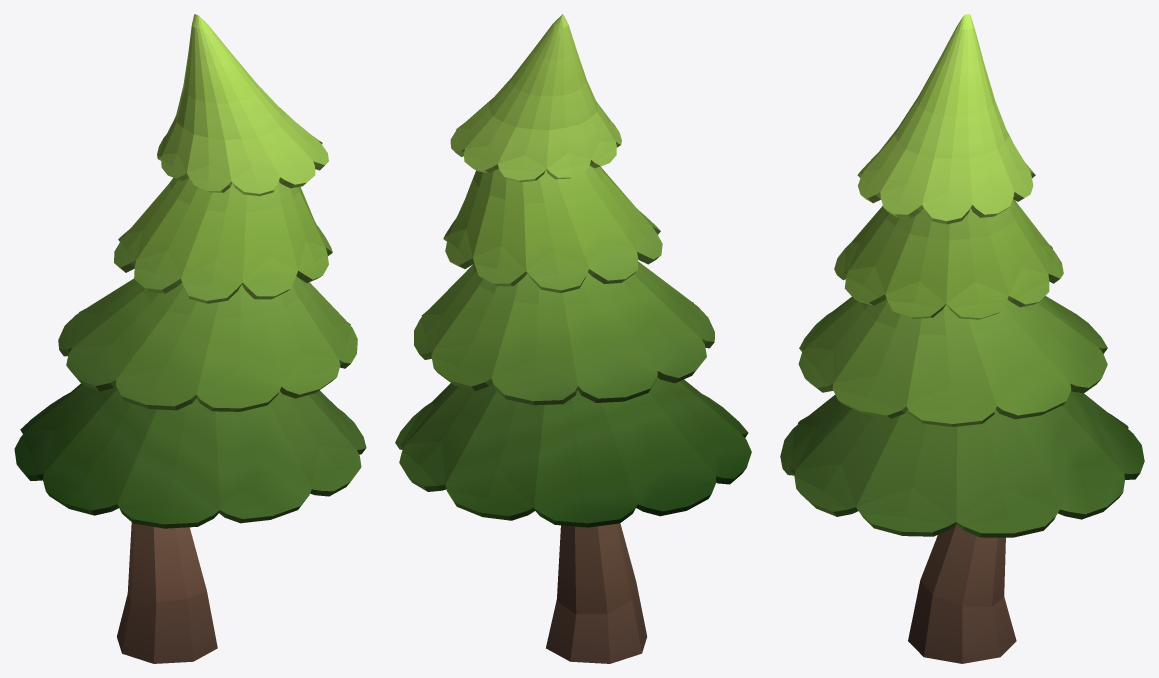
File: arbol verde 3.fbx
3 views of the same model, side by side, from view 1: azimuth 30°, elevation 25°; view 2: azimuth 150°, elevation 25°; view 3: azimuth 270°, elevation 25° (orthographic). The views are drawn at different scales.
Parts seen in each view (by area): view 1: arbol.001; view 2: arbol.001; view 3: arbol.001.
Part boxes in pixels (x1,y1,x2,y2): arbol.001: (14,14,366,663); arbol.001: (395,14,751,663); arbol.001: (780,14,1144,663).
Size of the model in its own units: 901 by 1755 by 902.
1 material, 1 textured.
